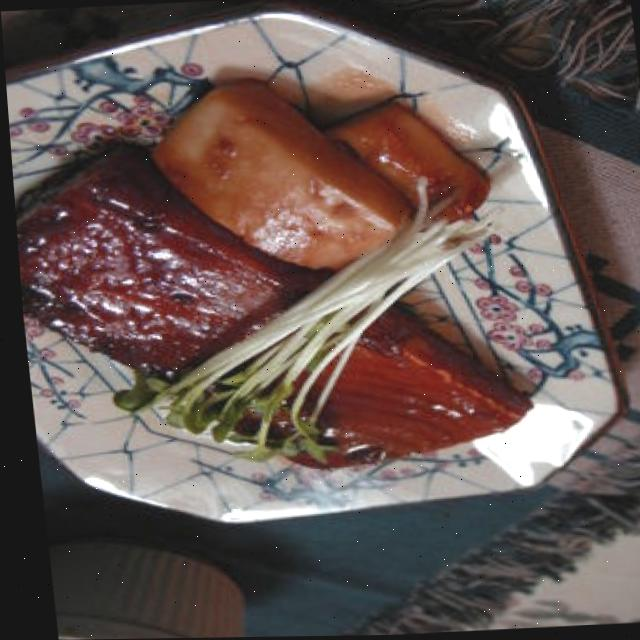熟制海鲜: (7, 116, 569, 514)
